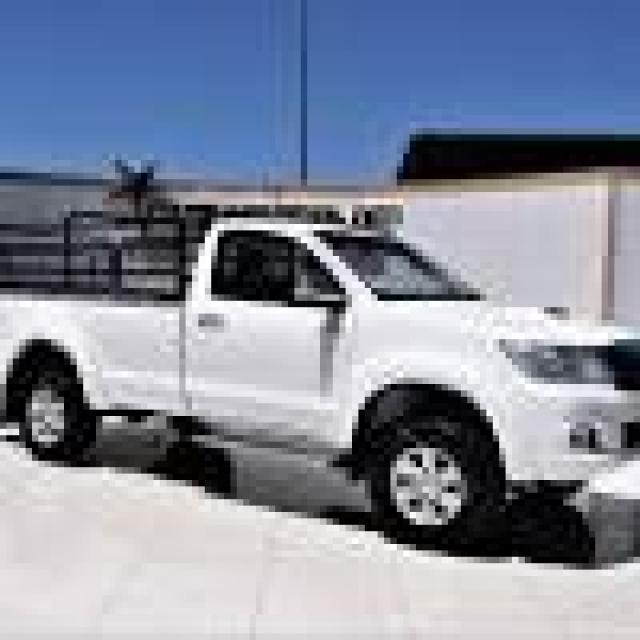Pickup Trucks: (6, 218, 640, 556)
